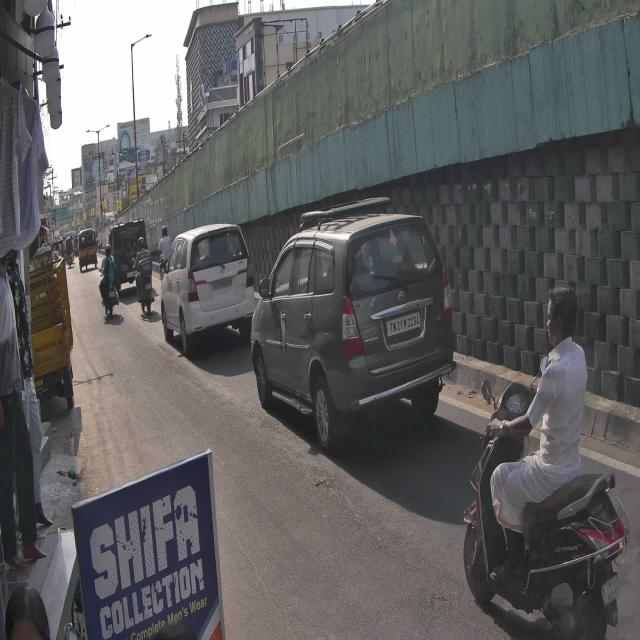single_rider: (462, 280, 640, 640)
